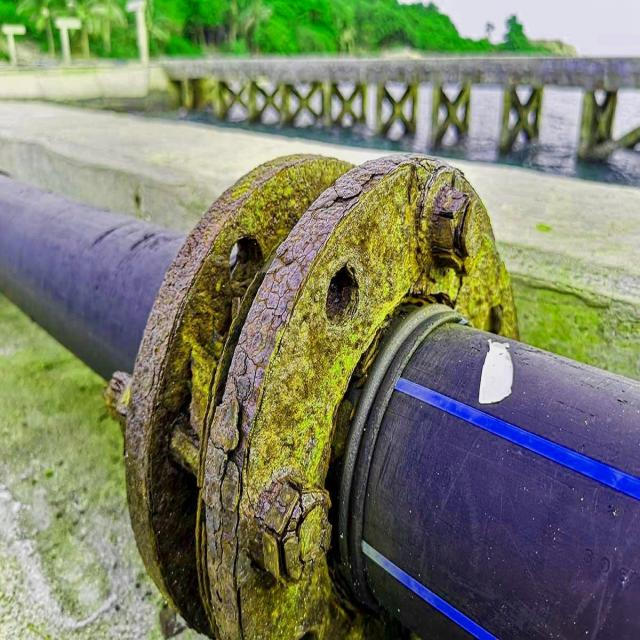rust: (92, 124, 540, 639)
